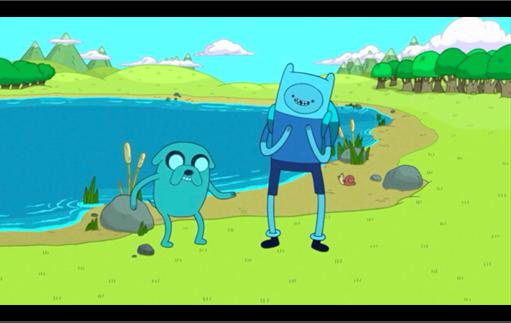snail: (337, 172, 358, 187)
